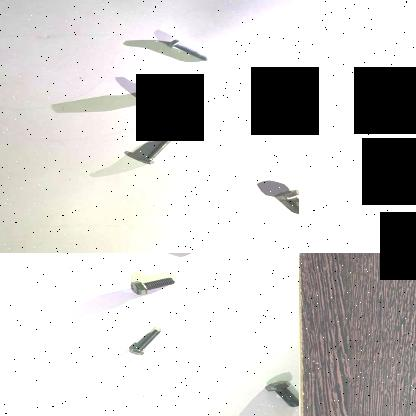Bolts: (155, 36, 213, 63), (123, 326, 167, 357), (259, 378, 299, 410), (136, 84, 190, 106), (128, 273, 176, 297), (138, 136, 174, 166), (271, 187, 299, 219)
